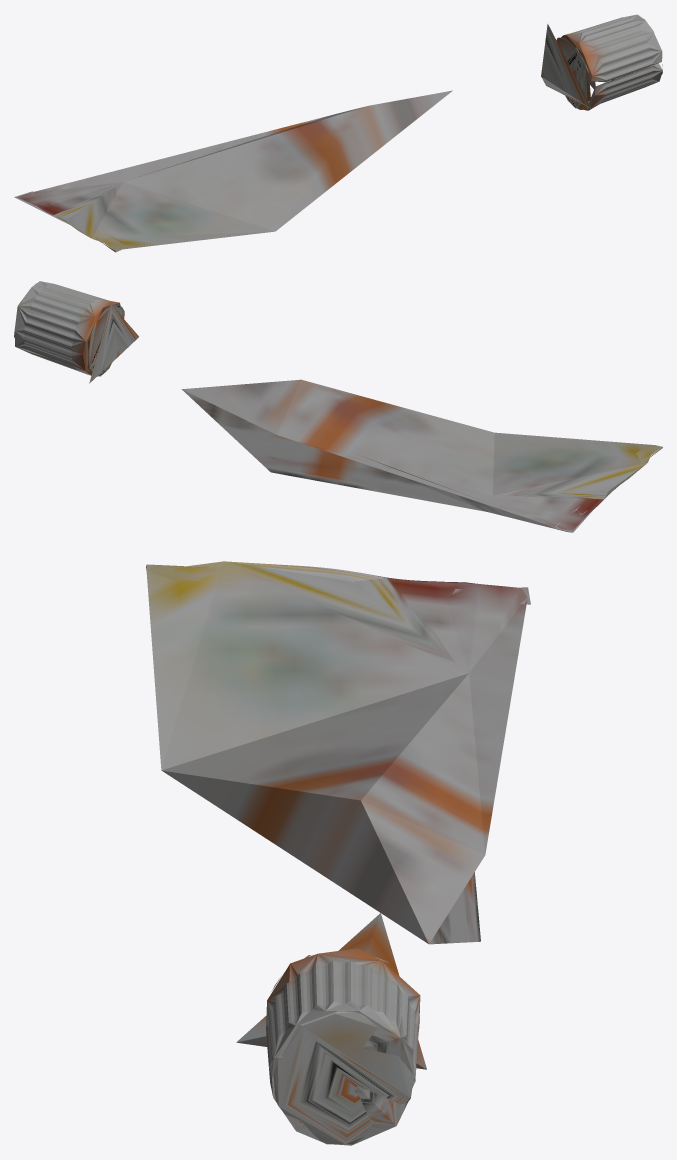
The model's file is paint_container_tube_d02.glb.
The picture shows the model from 3 angles, top to bottom: view 1: azimuth 30°, elevation 25°; view 2: azimuth 150°, elevation 25°; view 3: azimuth 270°, elevation 25°; orthographic projection. The views are drawn at different scales.
Visible parts, largest first — view 1: geometry_0; view 2: geometry_0; view 3: geometry_0.
Boxes of the visible parts, x1,y1,x2,y2 form: geometry_0: [14, 14, 662, 252]; geometry_0: [14, 281, 662, 532]; geometry_0: [146, 561, 530, 1145].
Size of the model in its own units: 0.42 by 0.0712 by 0.119.
1 material, 1 textured.
